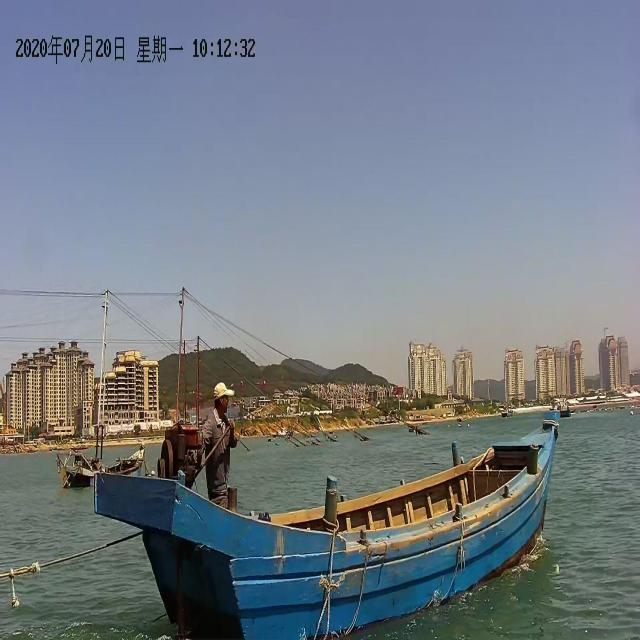CIV_Ship: (93, 417, 556, 632), (63, 450, 146, 492)
